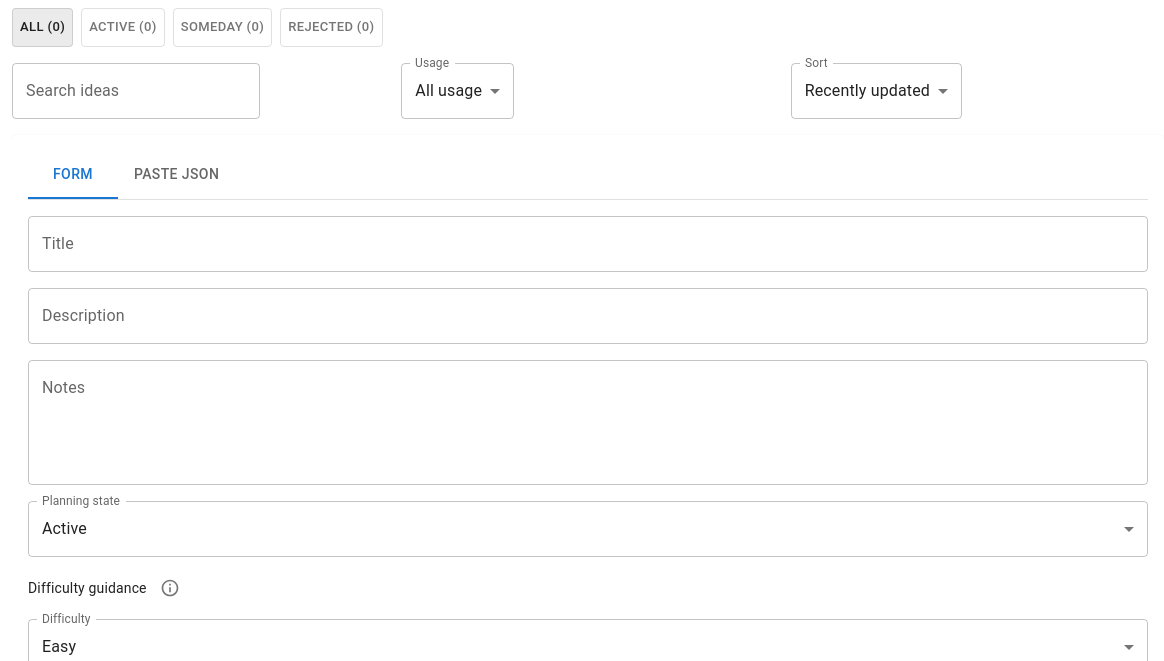
Ideas › creates an idea with required fields and a linked waypoint
The width and height of the screenshot is (1164, 661).
Type "Weekend hill walk" into the field labelled "Title".
click(588, 244); type("Weekend hill walk")  # box [28,216,1148,272]
(page scrolled)
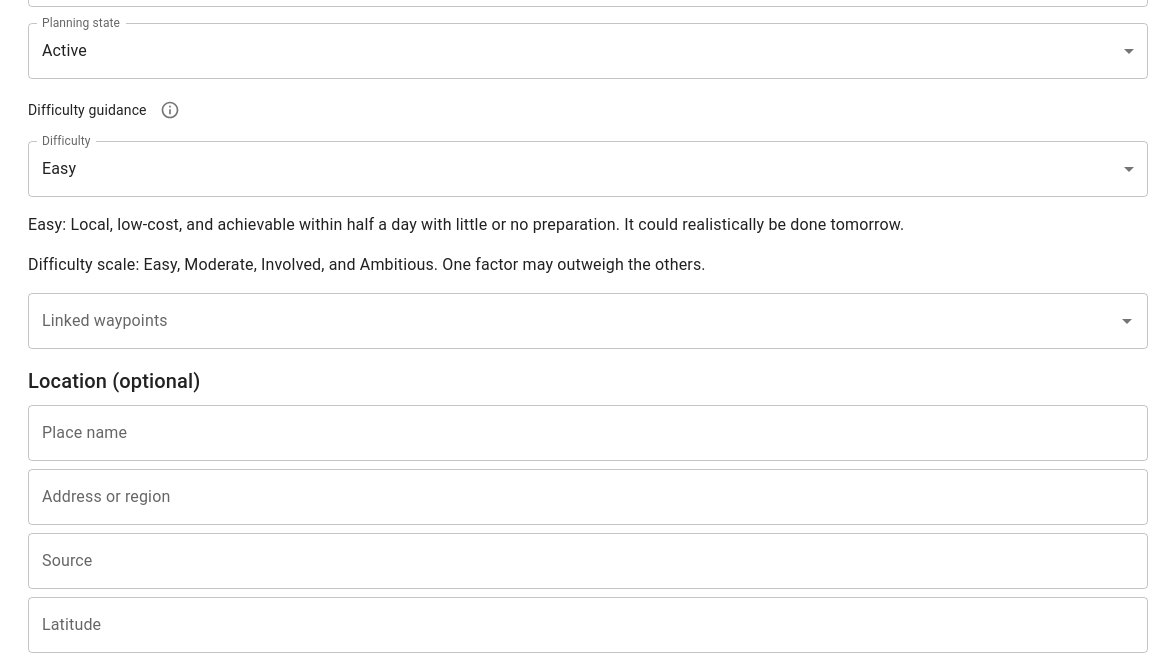
Click the dropdown labelled "Linked waypoints".
click(573, 321)  # box [37,302,1109,340]
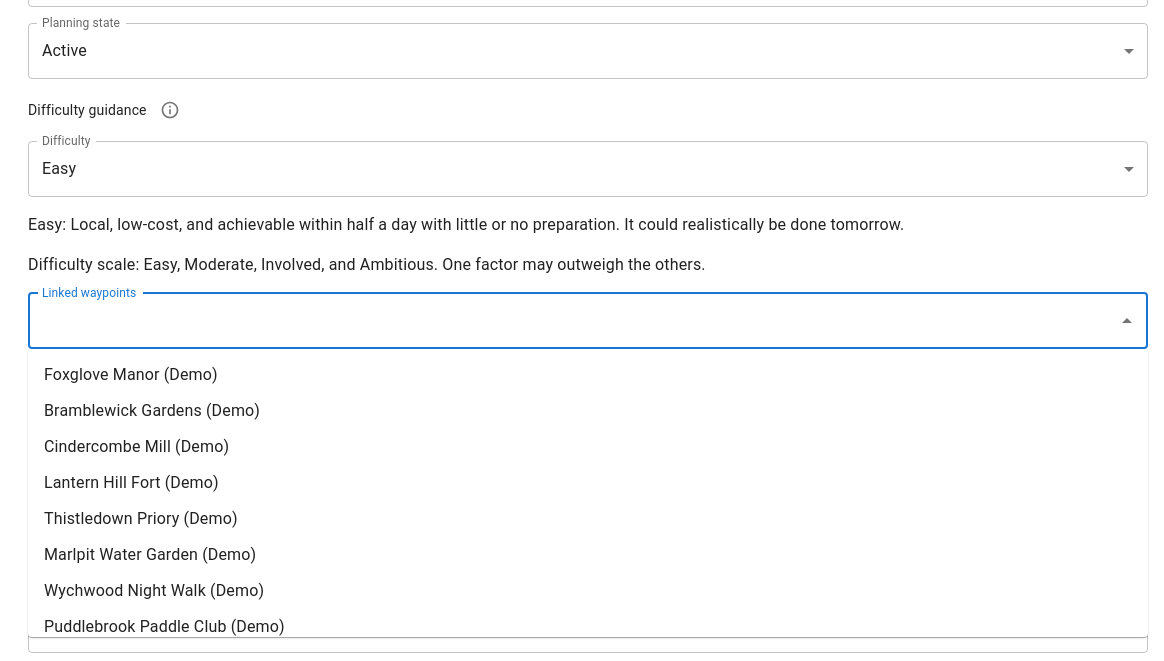
Click the option "Foxglove Manor (Demo)".
click(131, 374)  # box [44,365,218,384]
(page scrolled)
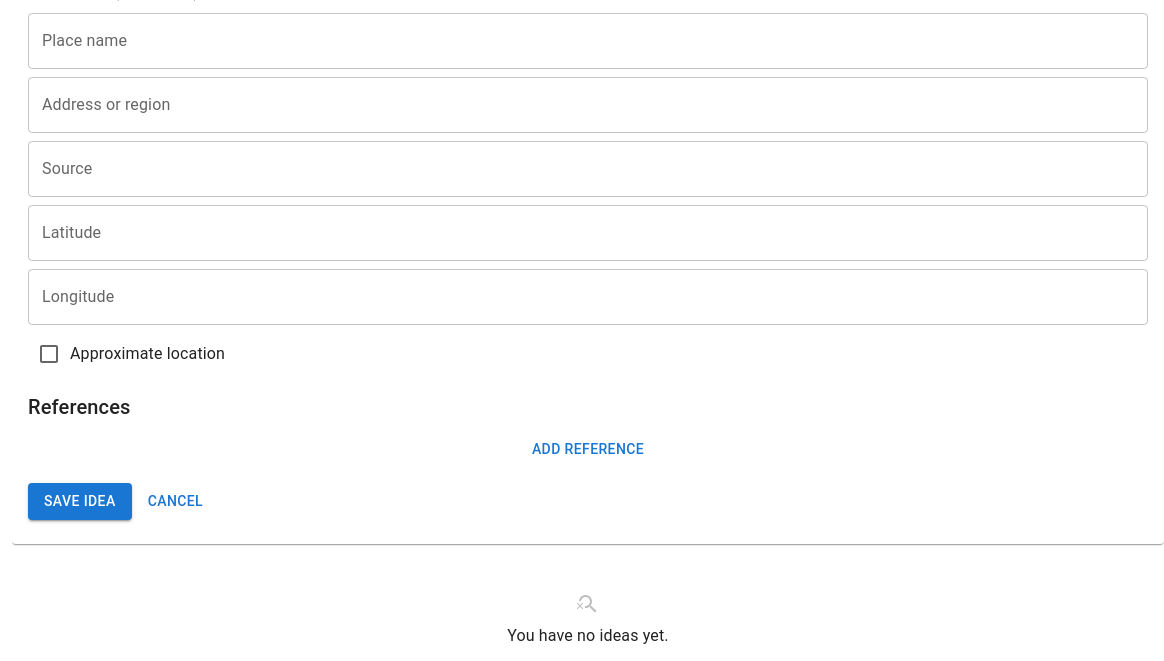
Click the button "Save idea".
click(80, 502)  # box [28,483,132,520]
(page scrolled)
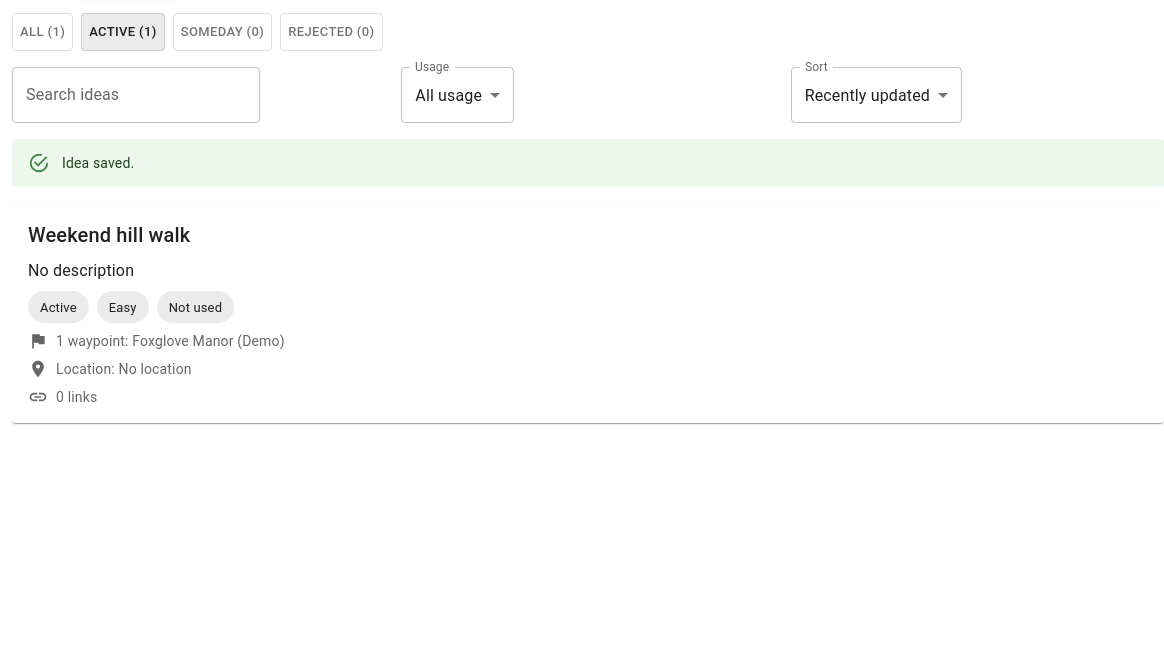
Now the message reads "Idea saved.", box [62,155,134,171]
